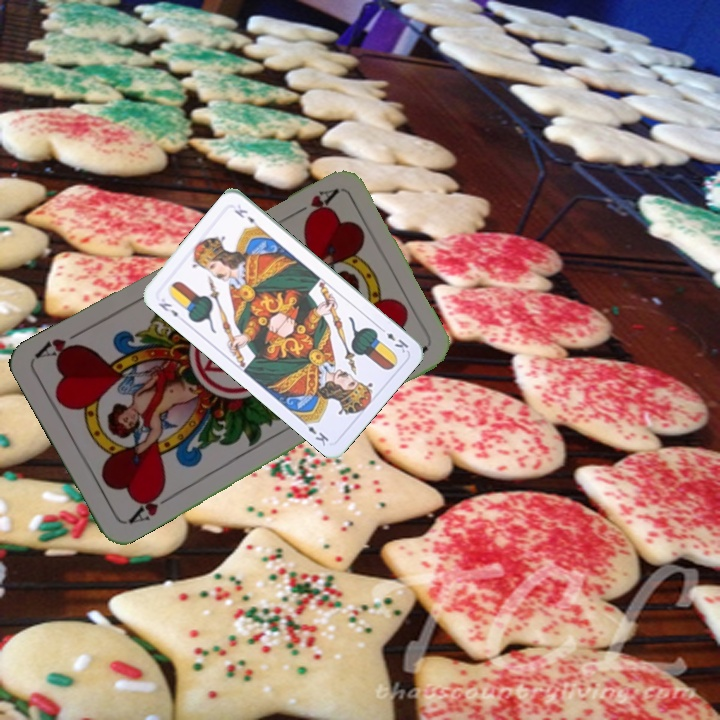EK: (375, 323, 411, 356), (154, 298, 186, 325)
HA: (124, 483, 176, 527), (285, 184, 340, 225)
